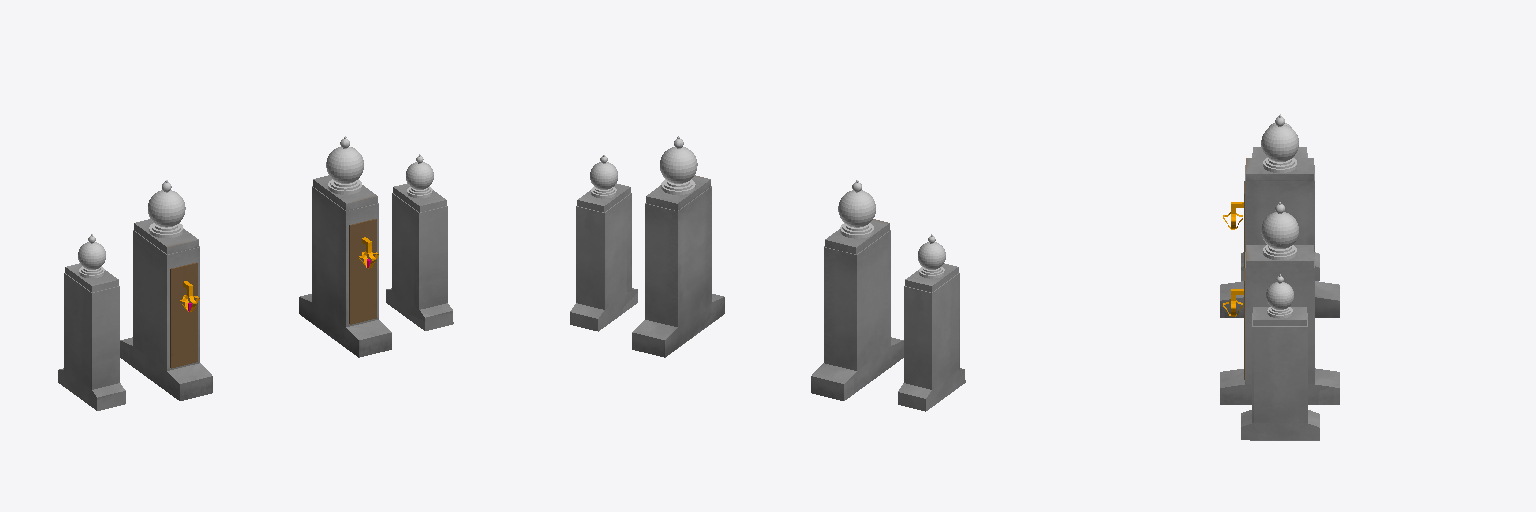
The picture shows the model from 3 angles: view 1: azimuth 30°, elevation 25°; view 2: azimuth 150°, elevation 25°; view 3: azimuth 270°, elevation 25°; orthographic projection.
Visible parts, largest first — view 1: beeg_gate, Ball_Lantern.001, Ball_Lantern.002; view 2: beeg_gate, Ball_Lantern.001, Ball_Lantern.002; view 3: beeg_gate, Ball_Lantern.001, Ball_Lantern.002.
Boxes of the visible parts, x1,y1,x2,y2 form: beeg_gate: [58, 175, 453, 410]; Ball_Lantern.001: [148, 136, 363, 237]; Ball_Lantern.002: [78, 154, 433, 277]; beeg_gate: [570, 175, 965, 411]; Ball_Lantern.001: [660, 136, 875, 238]; Ball_Lantern.002: [590, 155, 945, 278]; beeg_gate: [1220, 147, 1339, 440]; Ball_Lantern.001: [1261, 115, 1298, 259]; Ball_Lantern.002: [1266, 114, 1293, 318].
Bounding box in the file's own units: 4.06 × 2.13 × 1.18.
Materials: 4 (1 with a texture image).